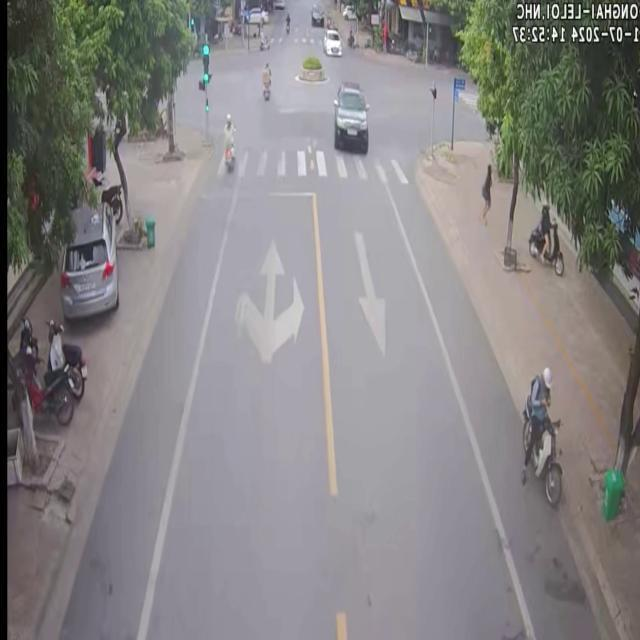car: (58, 200, 117, 318), (332, 80, 367, 151), (320, 27, 340, 56)
green_light: (202, 46, 209, 83)
motobike: (519, 365, 560, 502), (19, 345, 72, 422), (46, 318, 86, 399), (220, 111, 234, 169), (259, 60, 269, 98)
stop_line: (197, 188, 314, 196)
